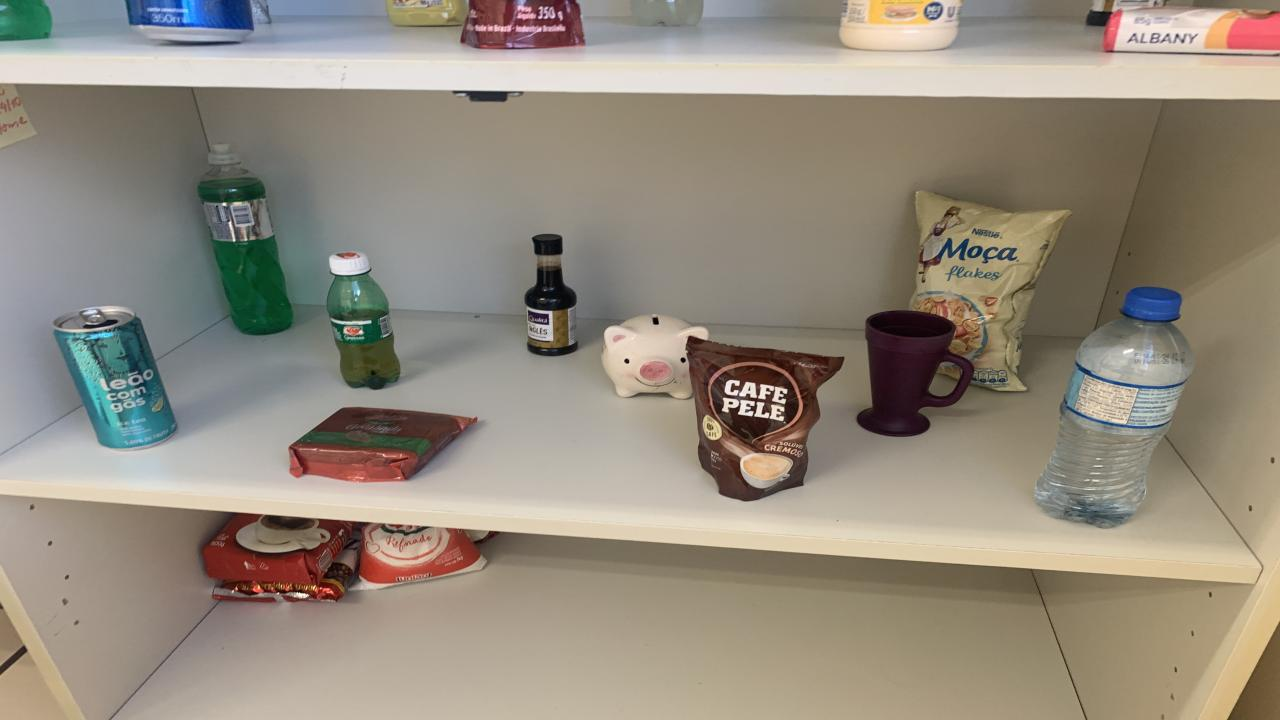Coffee-Pantry_Items: (685, 338, 842, 501)
Detergent-Cleanup_Items: (198, 144, 292, 336)
English_Sauce-Pantry_Items: (525, 234, 578, 356)
Flakes-Snacks: (910, 191, 1070, 392)
Guarana-Drinks: (328, 251, 400, 388)
Guava-Snacks: (288, 407, 478, 482), (602, 315, 710, 399)
Mayonnaise-Pantry_Items: (840, 0, 962, 51)
Mustard-Pantry_Items: (1205, 9, 1280, 51), (385, 0, 468, 26)
Pig_Safe-Miscellaneous: (602, 315, 710, 399)
Soap-Cleanup_Items: (1102, 8, 1280, 54)
Soda-Drinks: (630, 0, 702, 26)
Tea-Drinks: (52, 306, 178, 450)
Tomato_Sauce-Pantry_Items: (460, 0, 585, 49)
Tonic-Drinks: (125, 0, 255, 43)
Water_Bottle-Drinks: (1035, 287, 1195, 527)
